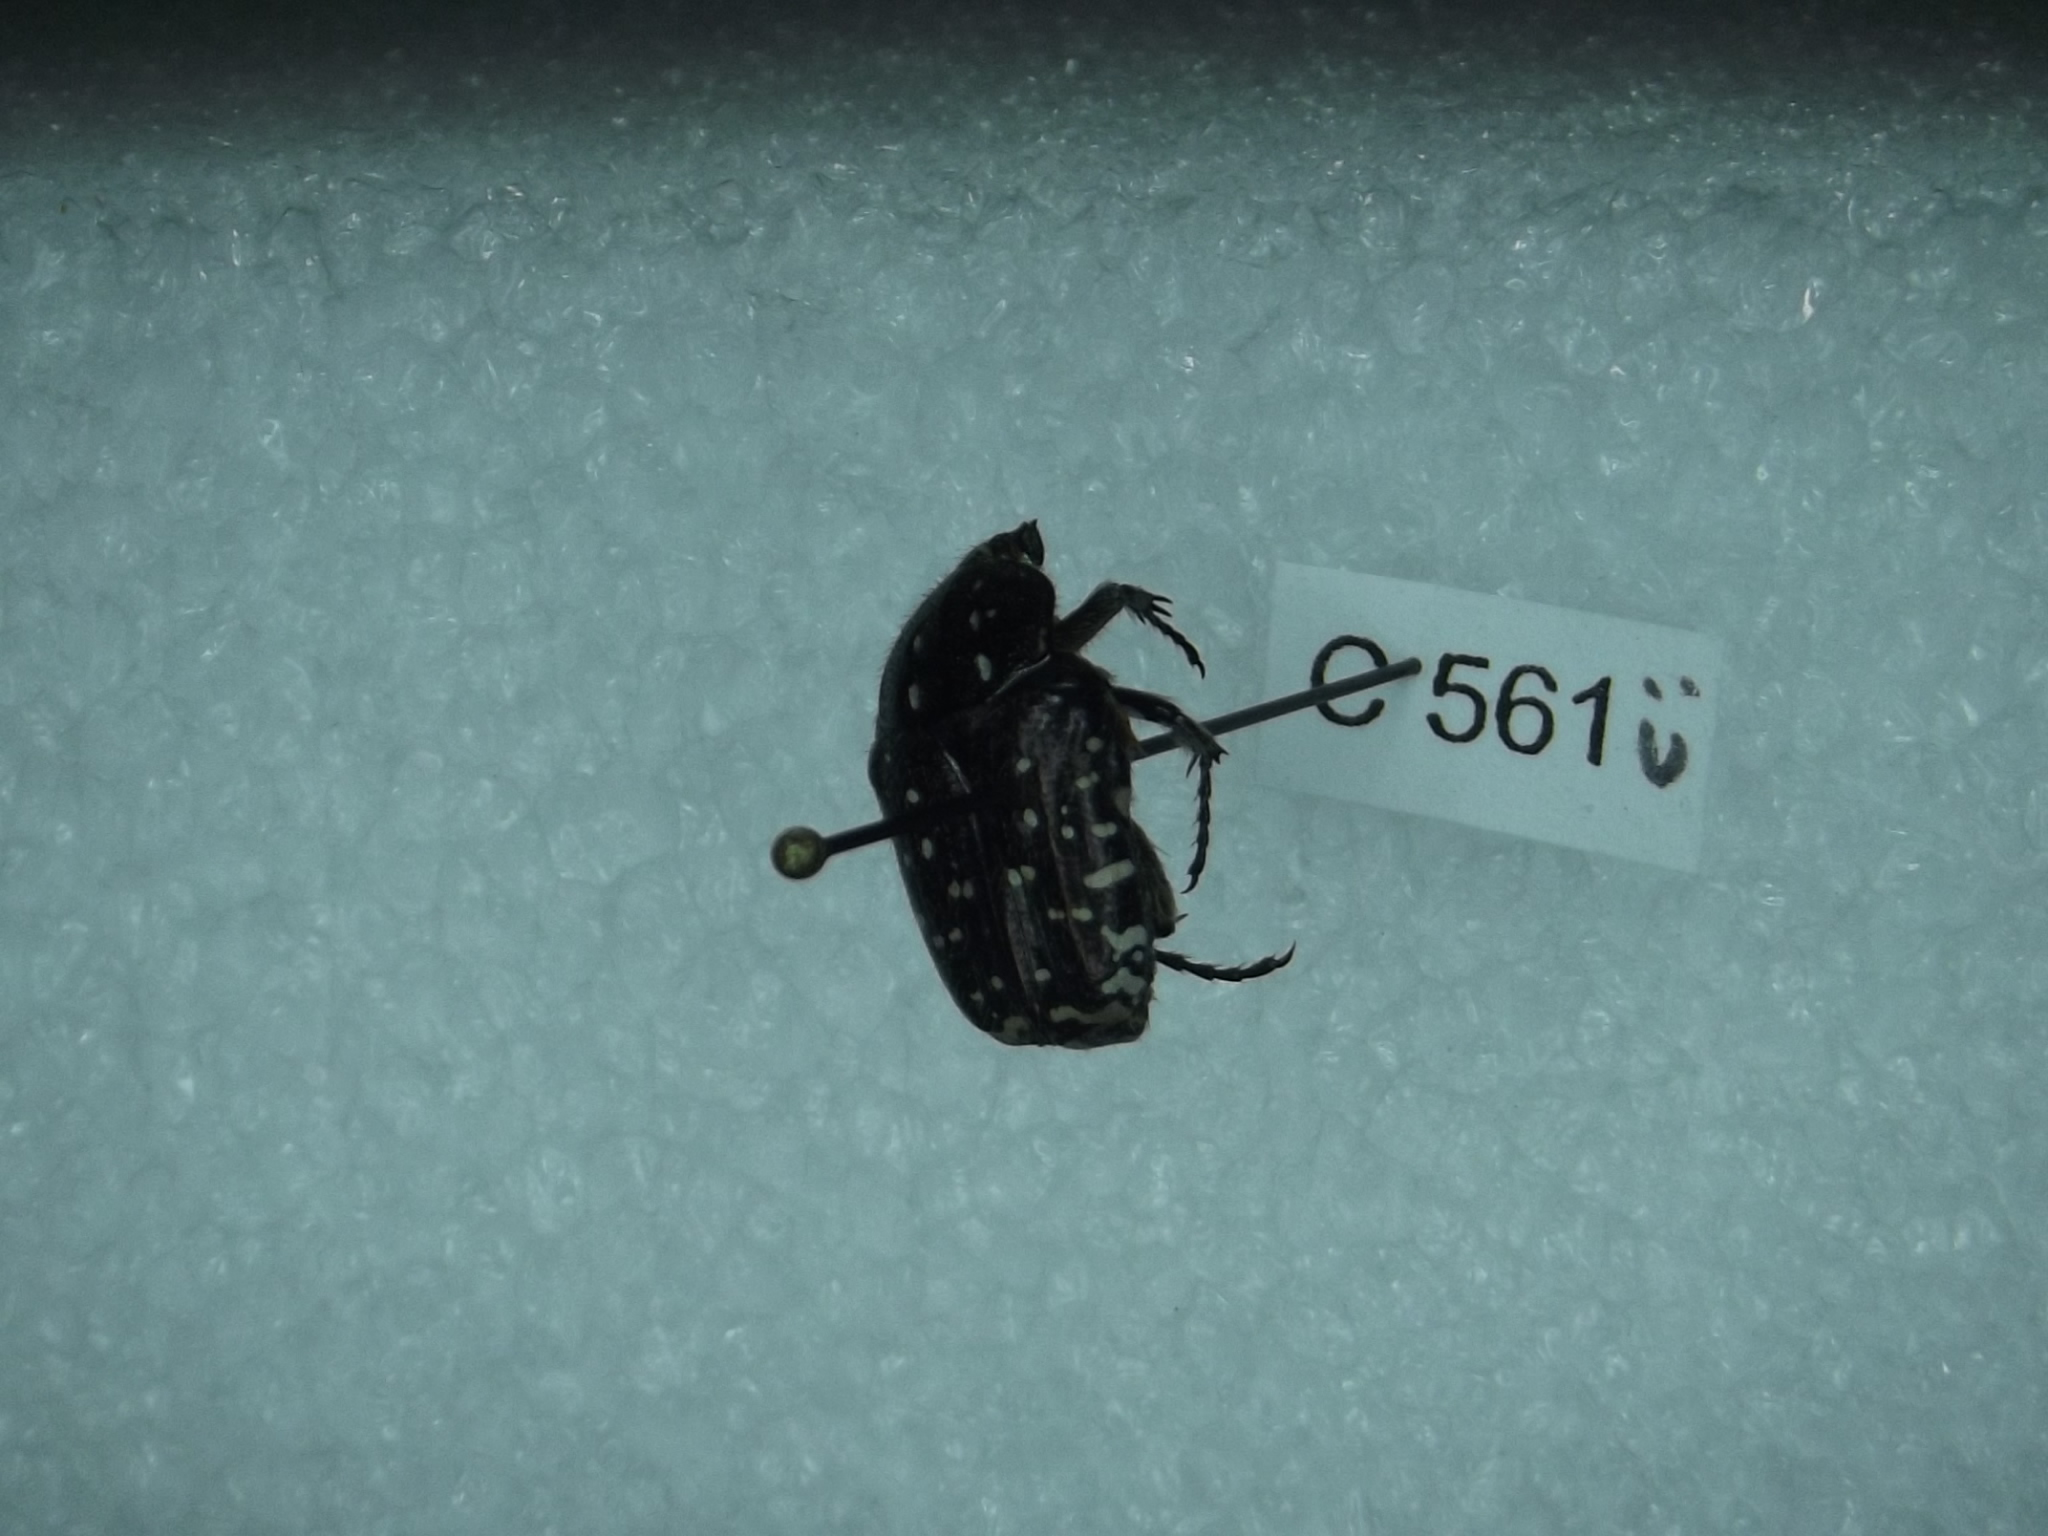Oxythyrea_funesta: (858, 484, 1313, 1068)
